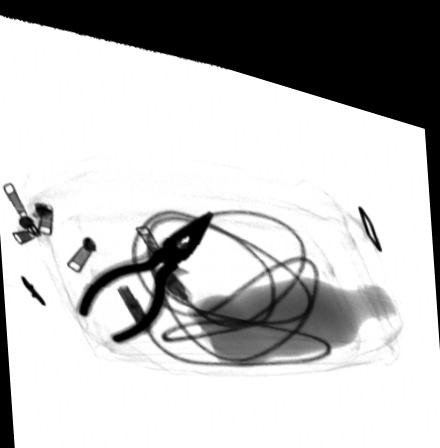Pliers: (77, 198, 216, 339)
